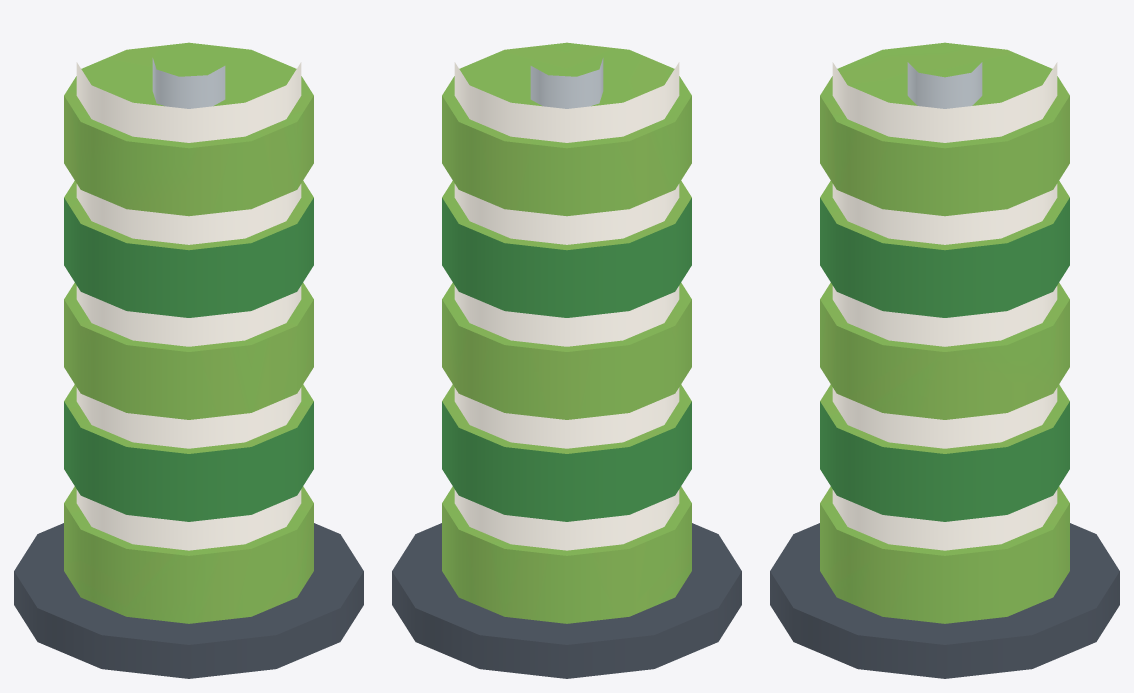
The model's file is prop_hydroponic_tower.glb.
The picture shows the model from 3 angles, left to right: view 1: azimuth 30°, elevation 25°; view 2: azimuth 150°, elevation 25°; view 3: azimuth 270°, elevation 25°; orthographic projection.
Parts seen in each view (by area): view 1: prop_hydroponic_tower_LOD0; view 2: prop_hydroponic_tower_LOD0; view 3: prop_hydroponic_tower_LOD0.
Part boxes in pixels (x1,y1,x2,y2): prop_hydroponic_tower_LOD0: (14, 42, 363, 678); prop_hydroponic_tower_LOD0: (392, 42, 741, 678); prop_hydroponic_tower_LOD0: (770, 42, 1119, 678).
Size of what is drawn, in the model's own units: 2.8 by 4.8 by 2.8.
1 material, 1 textured.
